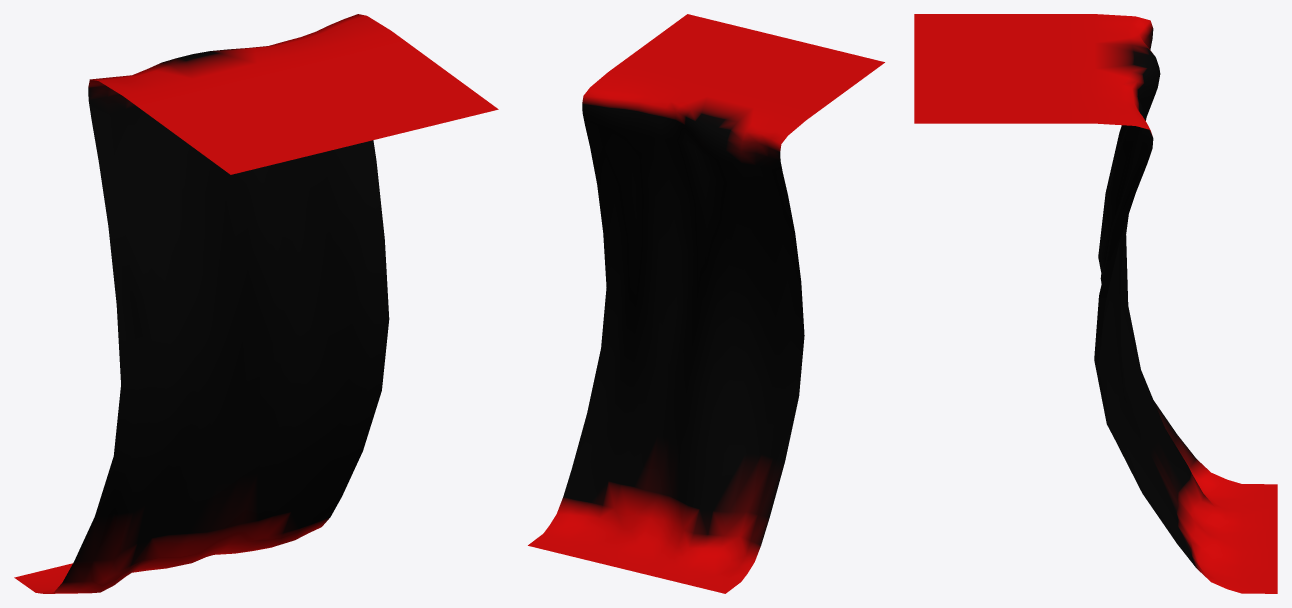
File: GroundCliff00A 2M Foreground.fbx
3 renders of one model, left to right at view 1: azimuth 30°, elevation 25°; view 2: azimuth 150°, elevation 25°; view 3: azimuth 270°, elevation 25°, orthographic. The views are drawn at different scales.
Visible parts, largest first — view 1: GroundCliff00A 2M Foreground; view 2: GroundCliff00A 2M Foreground; view 3: GroundCliff00A 2M Foreground.
Part boxes in pixels (bbox=[...]): GroundCliff00A 2M Foreground: bbox=[14, 14, 498, 593]; GroundCliff00A 2M Foreground: bbox=[528, 14, 884, 593]; GroundCliff00A 2M Foreground: bbox=[914, 14, 1277, 593].
Size of the model in its own units: 1 by 2 by 1.4.
